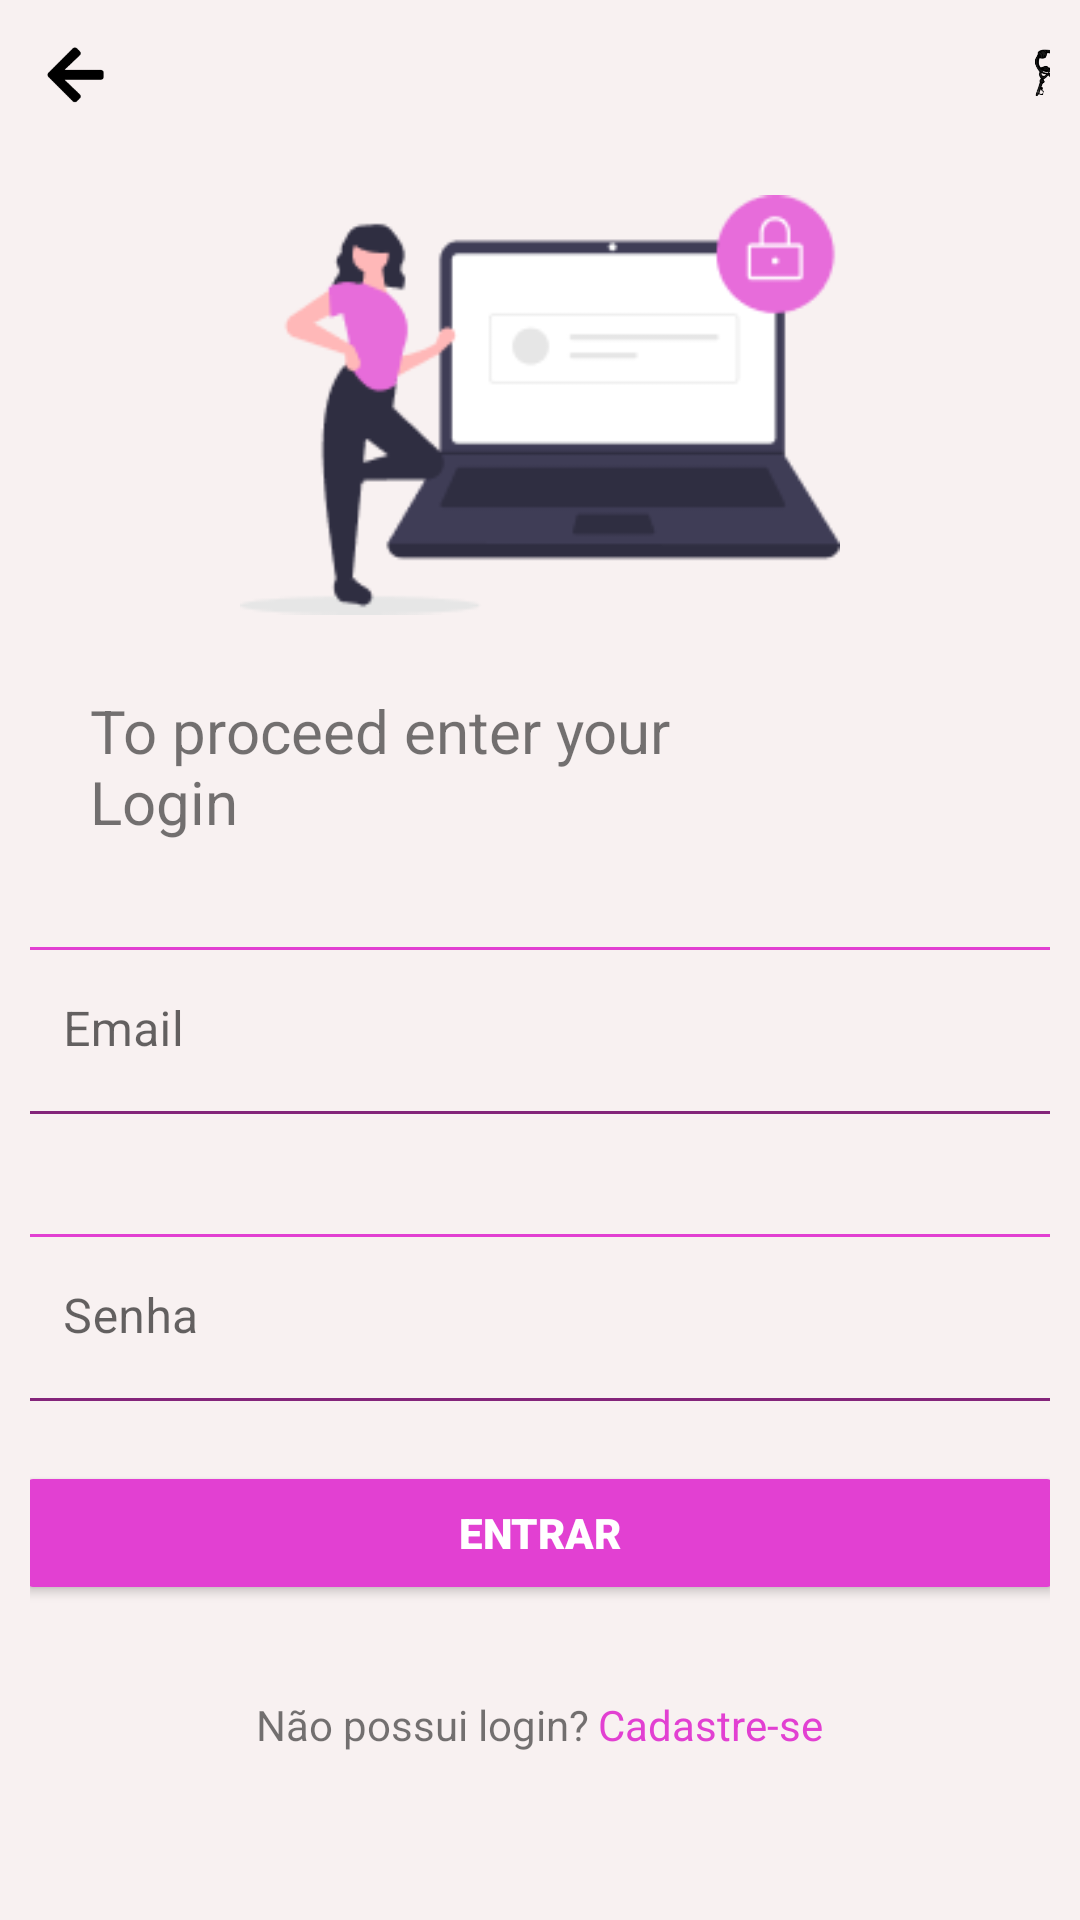

Icon click points for this 1080*1920 phone screenshot, format (x,y):
back: (75,74)
